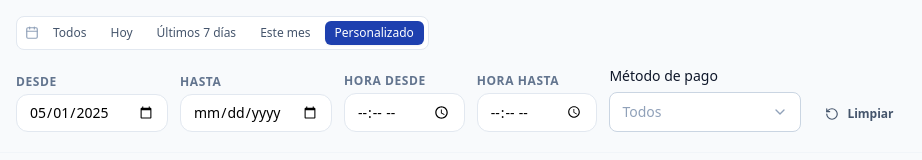
Test: SalesFilters › shows Limpiar button when filters are active and clears on click
This screenshot has width=922, height=160.
Step 1. Click the button "Limpiar" → (860,114), box top-left (813, 98), bottom-right (906, 130)
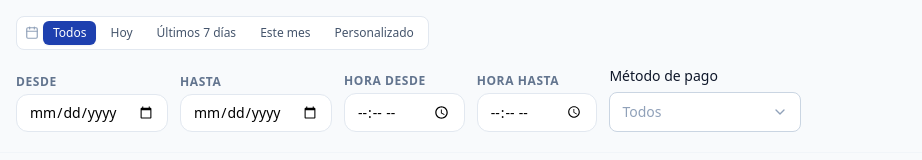
Check: the button "Limpiar" is gone
